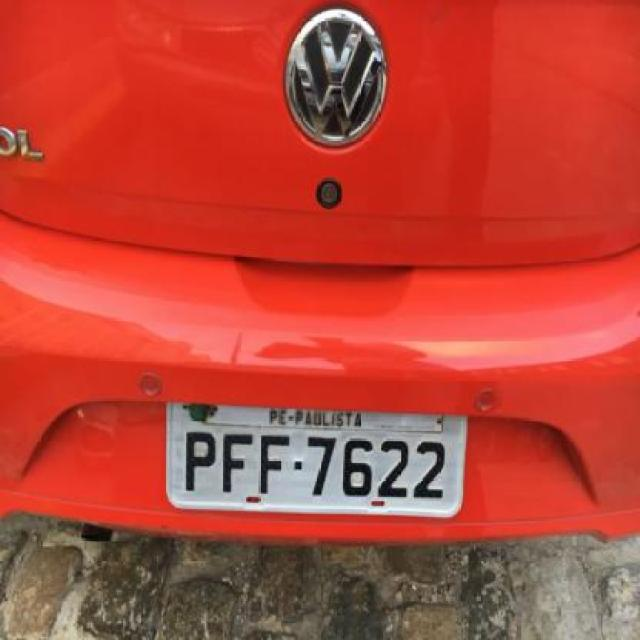old_plate: (160, 396, 472, 521)
